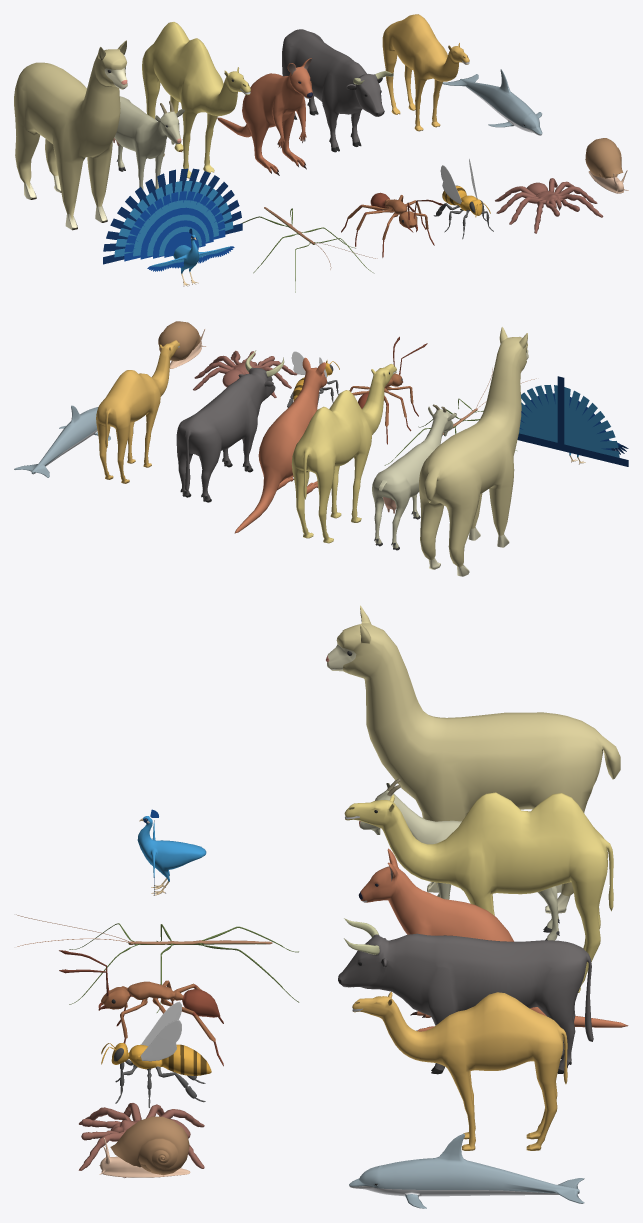
Rendered from animal.fbx.
3 views of the same model, one above another, from view 1: azimuth 30°, elevation 25°; view 2: azimuth 150°, elevation 25°; view 3: azimuth 270°, elevation 25° (orthographic). The views are drawn at different scales.
Visible parts, largest first — view 1: alpaca, peacock, bactrian_camel, bull, wallaby, camel, goat, tarantula, dolphin, snail, ant, bee (+1 smaller); view 2: alpaca, bactrian_camel, bull, peacock, camel, wallaby, goat, dolphin, tarantula, snail, ant, bee (+1 smaller); view 3: alpaca, bactrian_camel, bull, camel, dolphin, wallaby, snail, bee, ant, goat, tarantula, peacock (+1 smaller).
Boxes of the visible parts, box(x1,y1,x2,y2) form: alpaca: box(14, 40, 127, 230); peacock: box(103, 168, 242, 286); bactrian_camel: box(142, 22, 250, 178); bull: box(282, 29, 393, 152); wallaby: box(217, 58, 312, 175); camel: box(382, 14, 469, 131); goat: box(113, 96, 184, 201); tarantula: box(495, 178, 603, 233); dolphin: box(442, 69, 542, 135); snail: box(585, 138, 628, 193); ant: box(341, 192, 443, 257); bee: box(433, 159, 493, 239); alpaca: box(419, 327, 528, 576); bactrian_camel: box(291, 364, 396, 543); bull: box(176, 350, 284, 502); peacock: box(517, 376, 628, 466); camel: box(96, 340, 179, 483); wallaby: box(234, 357, 326, 533); goat: box(372, 404, 456, 550); dolphin: box(14, 405, 110, 477); tarantula: box(193, 350, 297, 397); snail: box(158, 321, 206, 368); ant: box(349, 336, 427, 444); bee: box(287, 351, 339, 407); alpaca: box(326, 605, 620, 913); bactrian_camel: box(344, 792, 613, 992); bull: box(338, 918, 593, 1074); camel: box(352, 991, 567, 1150); dolphin: box(349, 1133, 584, 1208); wallaby: box(358, 848, 628, 1031); snail: box(99, 1116, 190, 1177); bee: box(101, 1001, 211, 1107); ant: box(59, 950, 223, 1066); goat: box(359, 778, 559, 940); tarantula: box(78, 1103, 204, 1177); peacock: box(137, 809, 206, 895).
Size of the model in its own units: 14.02 by 5.22 by 10.13.
